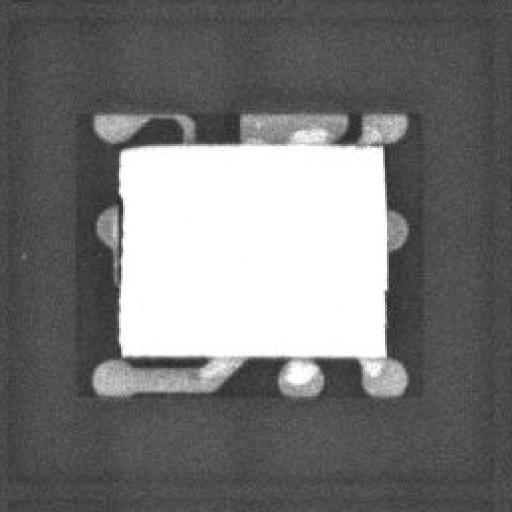DIE_BROKEN: (113, 191, 123, 239)
